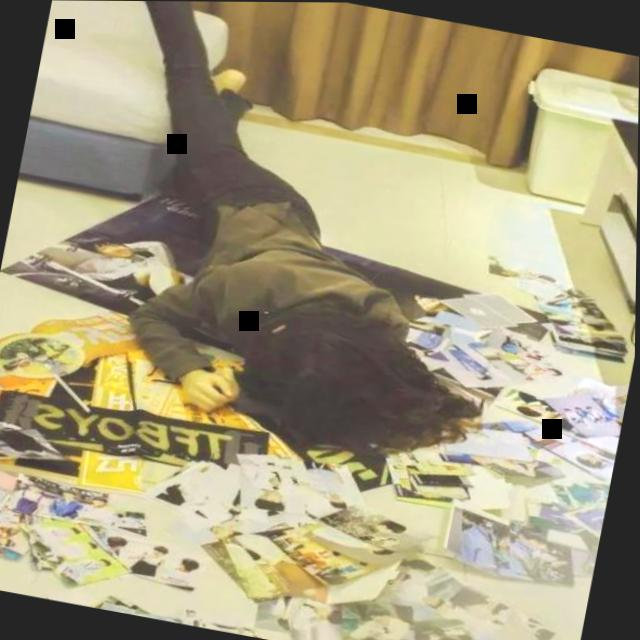Fall-Detected: (0, 0, 546, 496)
